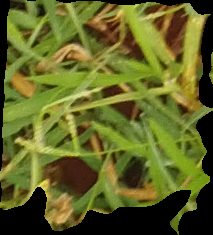grass: (1, 1, 212, 233)
